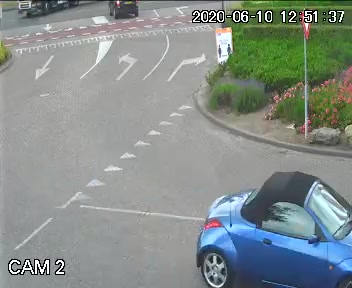car: (189, 163, 352, 287), (104, 0, 139, 23)
